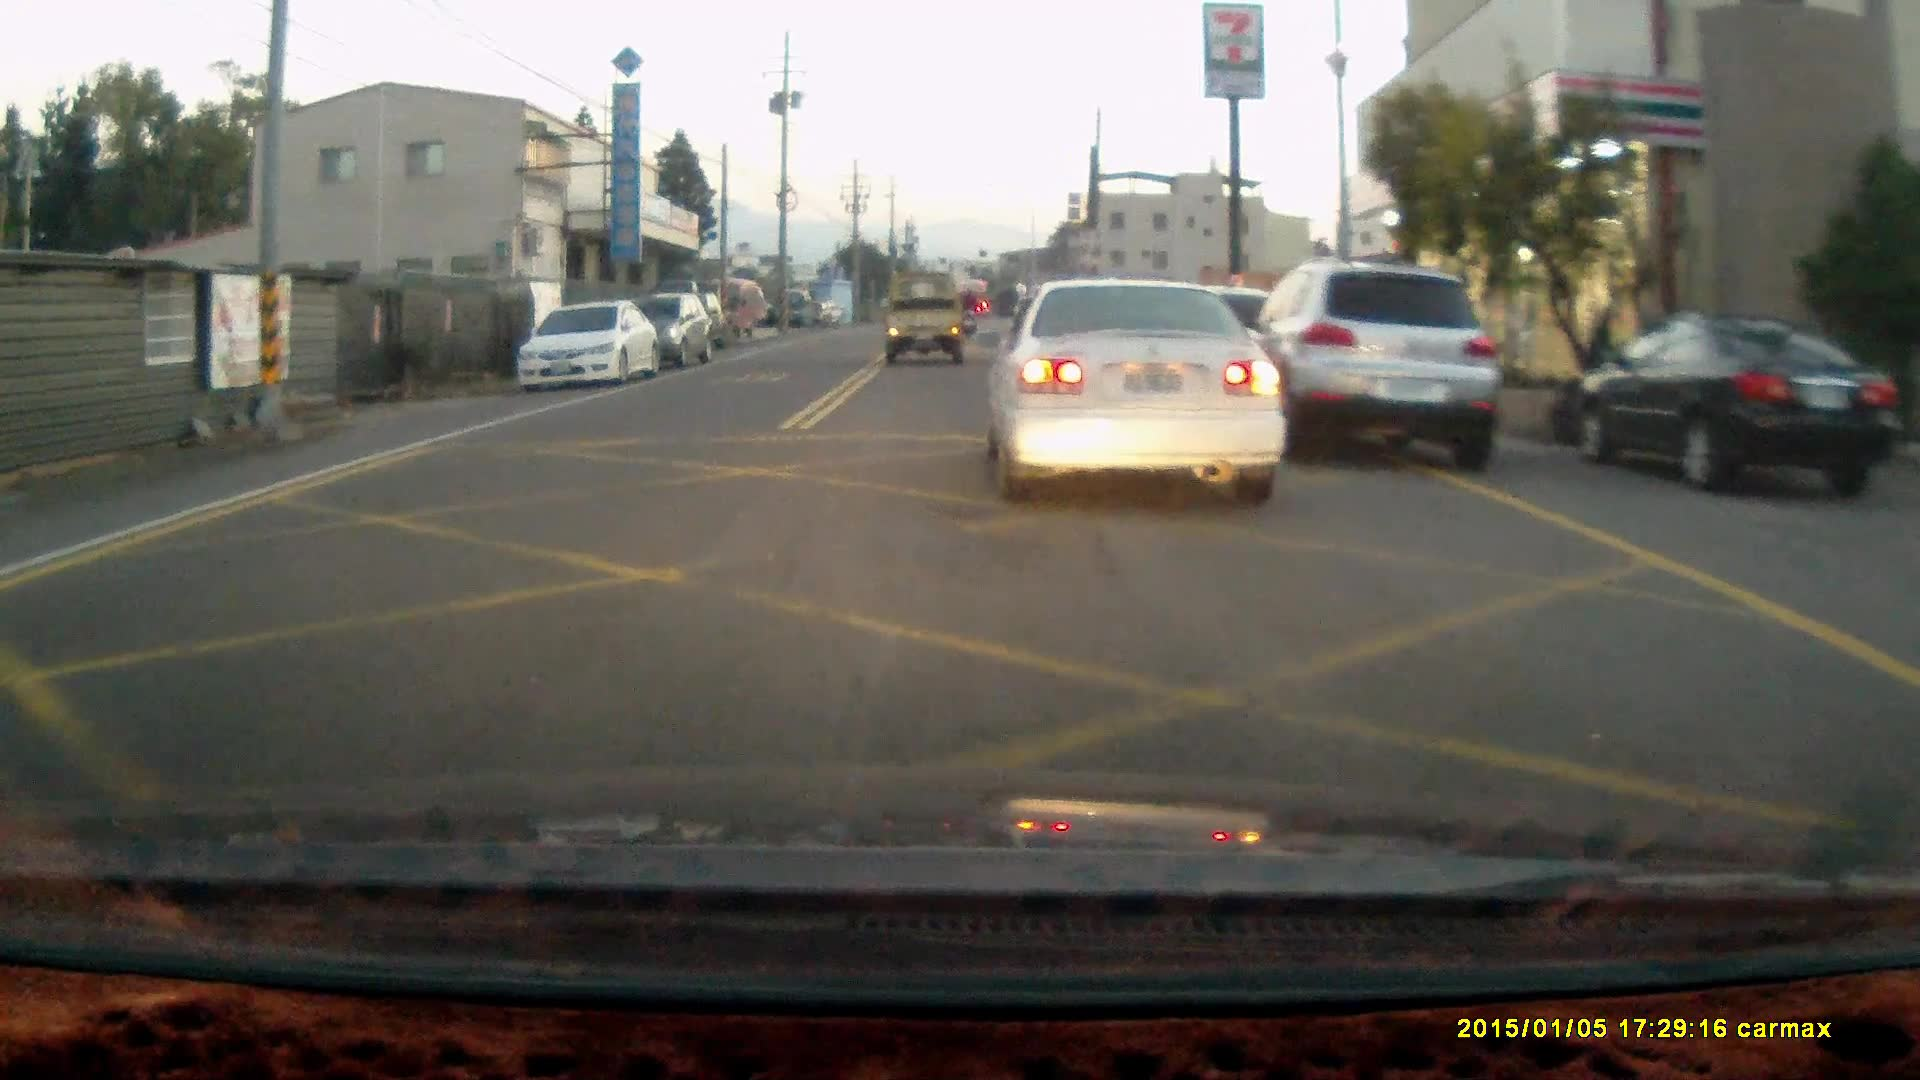rider: (954, 285, 980, 337)
vehicle: (982, 276, 1286, 495), (1562, 316, 1902, 494), (1234, 263, 1507, 474), (509, 295, 664, 392), (879, 276, 967, 365), (627, 295, 709, 371)
